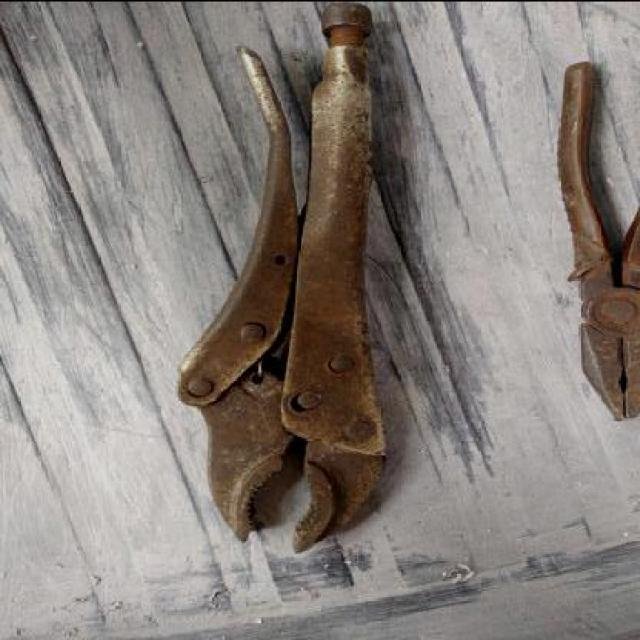pliers: (172, 1, 394, 554)
